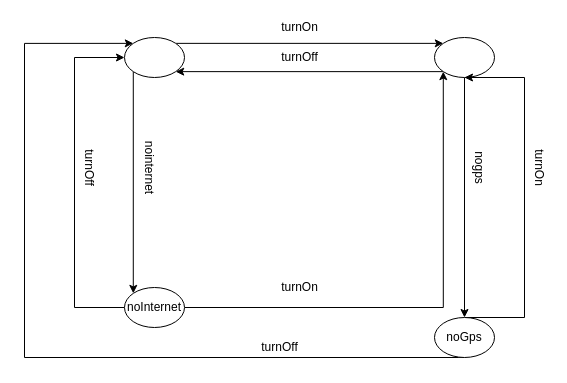
The diagram is 567 pixels wide and 383 high, and some of its shapes have lost their labels. Here are the shapes that lost their labels. From the top down, the centre of each, then its label:
At point 154,57: "OffCam".
At point 464,57: "OnCam".
